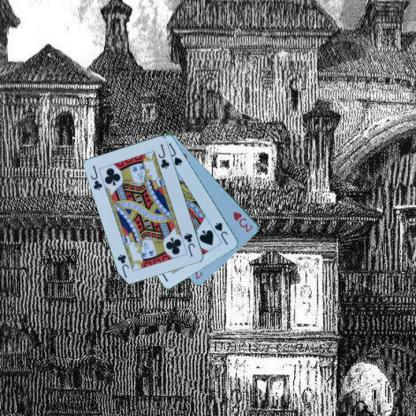3h: (229, 209, 254, 234)
Jc: (88, 163, 104, 191), (182, 231, 196, 258)
Js: (212, 220, 229, 246)
